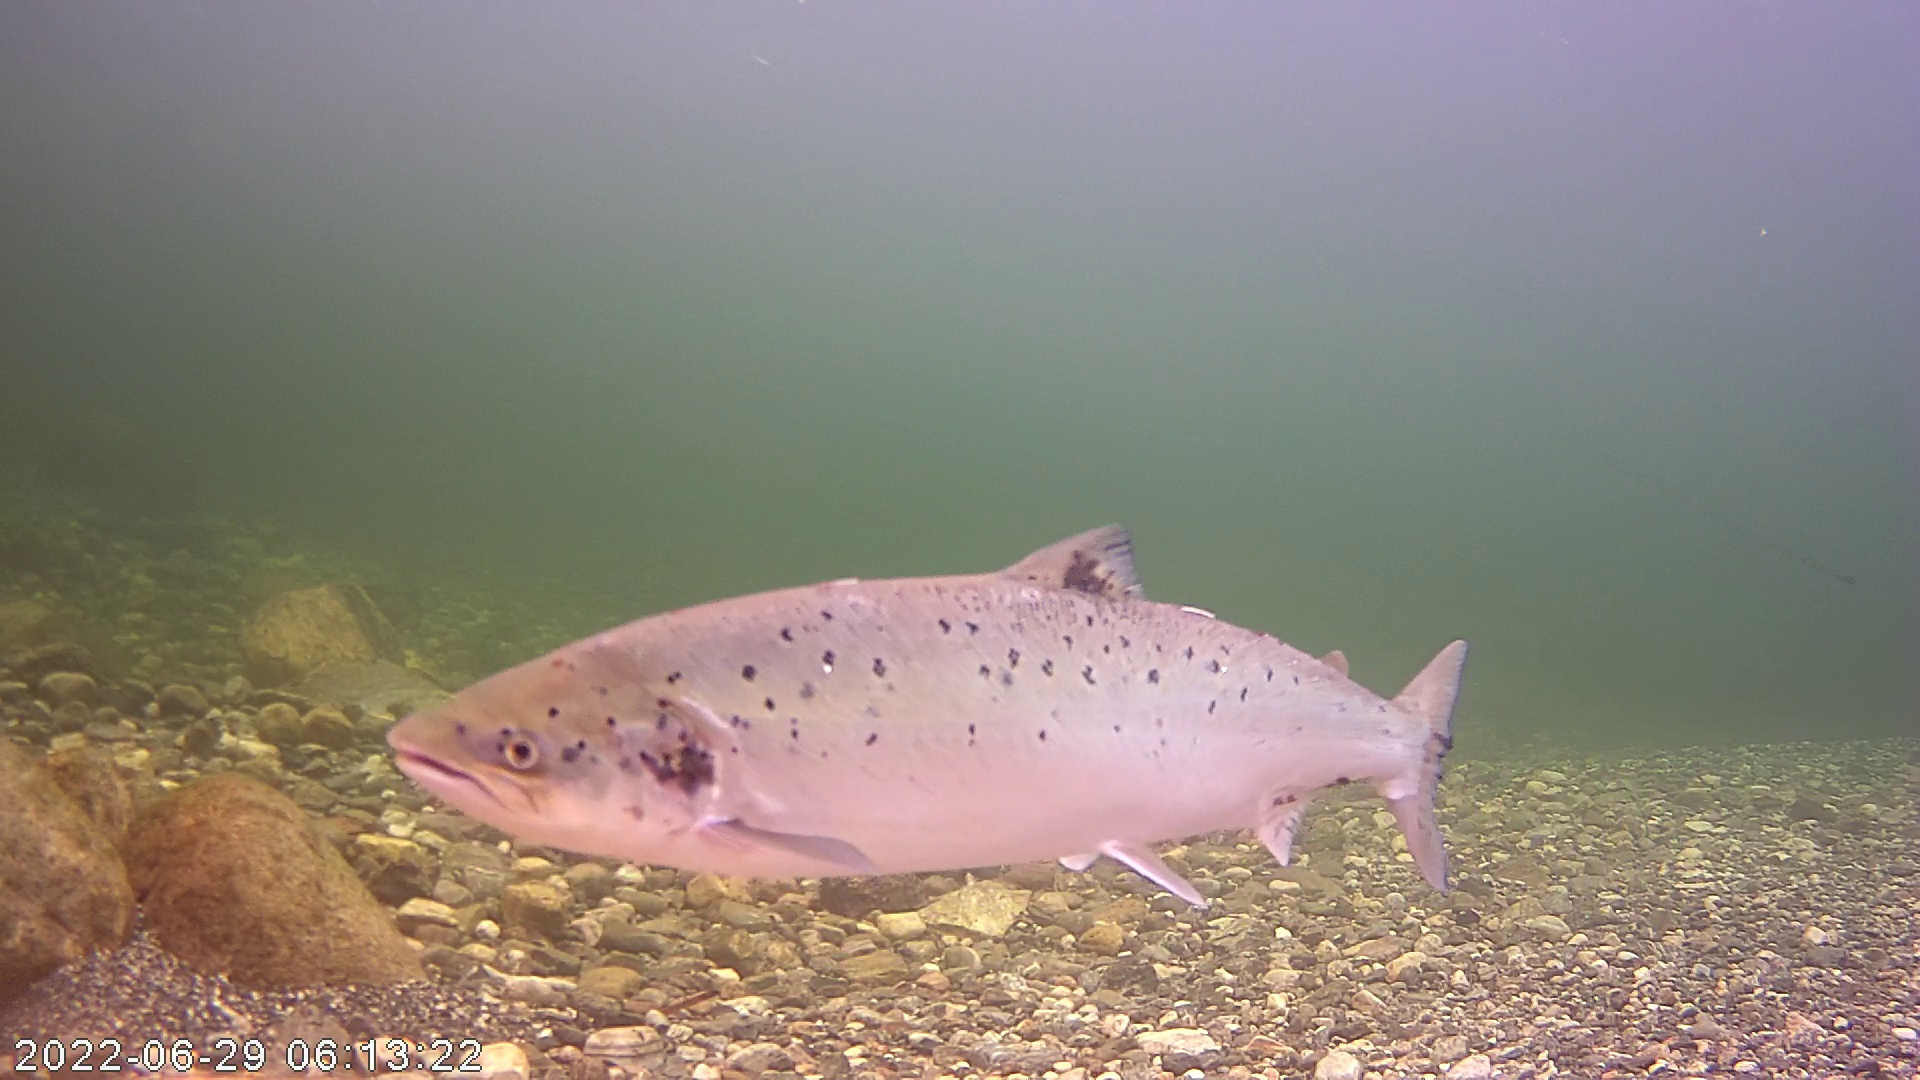salmon: (378, 469, 1485, 943)
